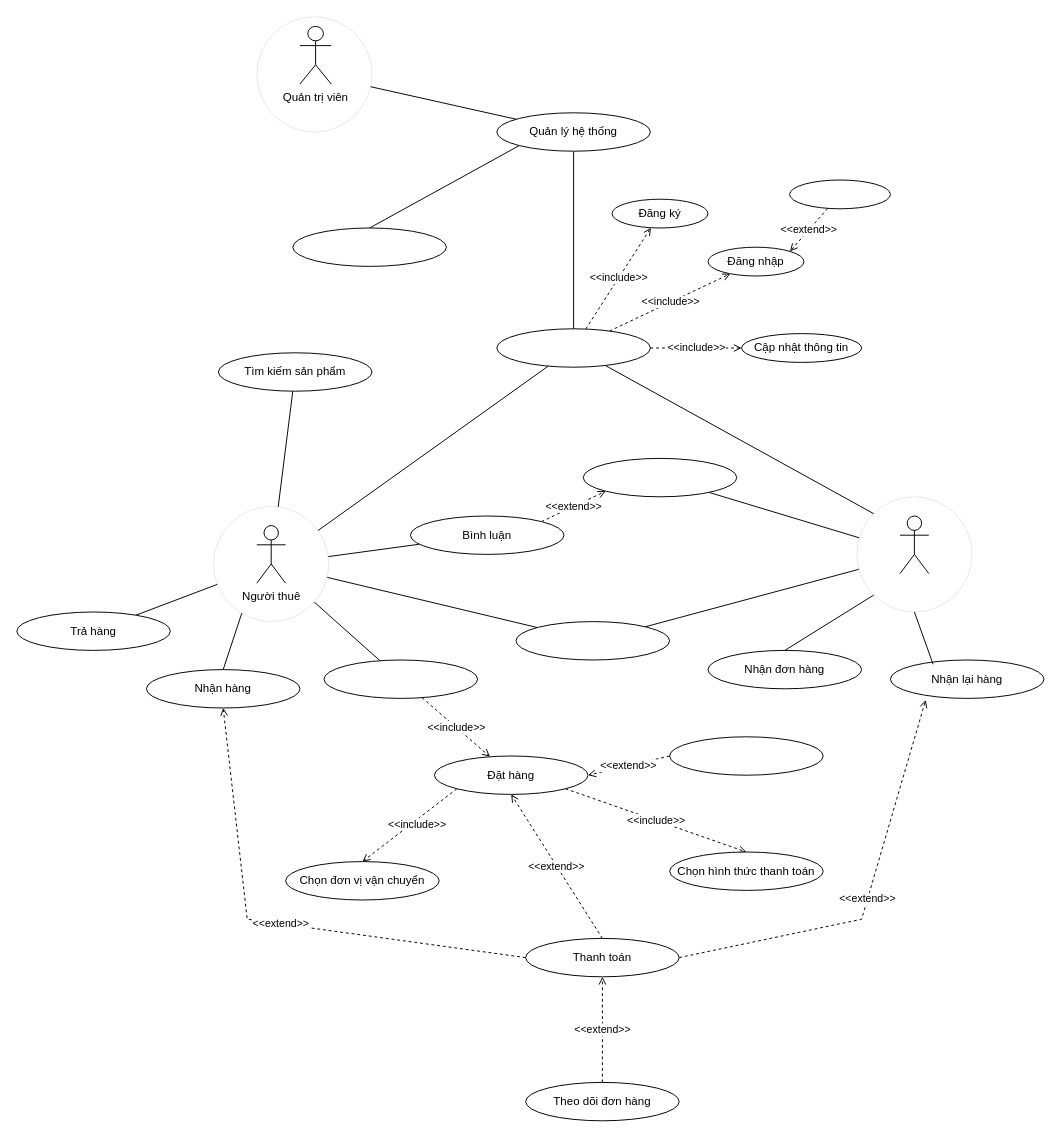
The diagram is 1061 pixels wide and 1138 high, and some of its shapes have lost their labels. Here are the shapes that lost their labels. From the top down, the box of each, then its label:
(789, 179, 890, 209): Quên mật khẩu
(292, 227, 446, 266): Quản lý đơn hàng
(496, 328, 650, 367): Quản lý tài khoản
(582, 457, 737, 497): Đăng sản phẩm
(899, 515, 929, 574): Người cho thuê
(515, 621, 670, 660): Nhắn tin
(323, 659, 478, 698): Thêm vào giỏ hàng
(669, 736, 823, 775): Hủy đơn hàng
